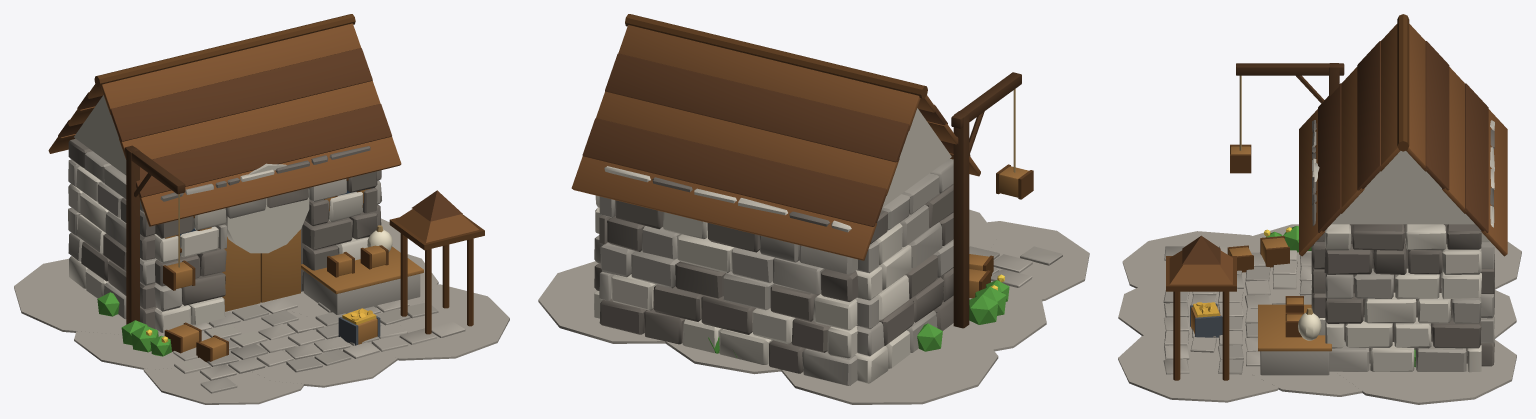
The model's file is magazyn_poz14.glb.
3 views of the same model, side by side, from view 1: azimuth 30°, elevation 25°; view 2: azimuth 150°, elevation 25°; view 3: azimuth 270°, elevation 25° (orthographic). The views are drawn at different scales.
Visible parts, largest first — view 1: magazyn_poz14; view 2: magazyn_poz14; view 3: magazyn_poz14.
Boxes of the visible parts, left/top/right/bottom form: magazyn_poz14: left=14, top=14, right=509, bottom=404; magazyn_poz14: left=538, top=14, right=1089, bottom=404; magazyn_poz14: left=1118, top=14, right=1521, bottom=404.
Size of the model in its own units: 8.83 by 5.45 by 8.2.
